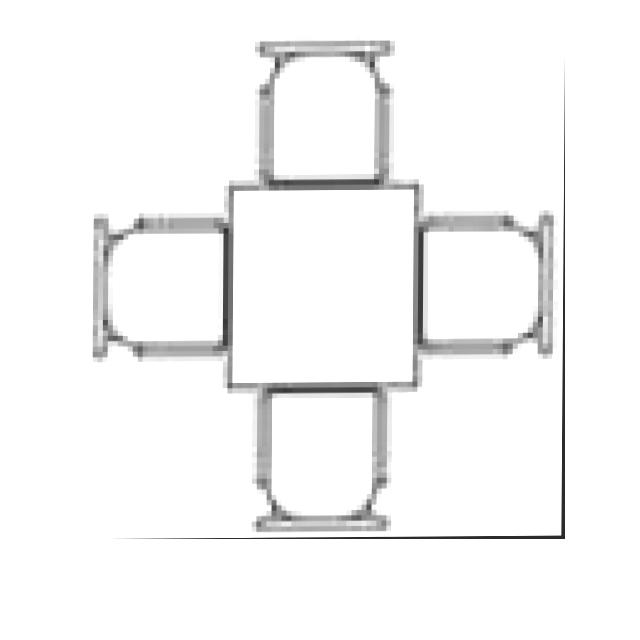table: (90, 37, 565, 539)
